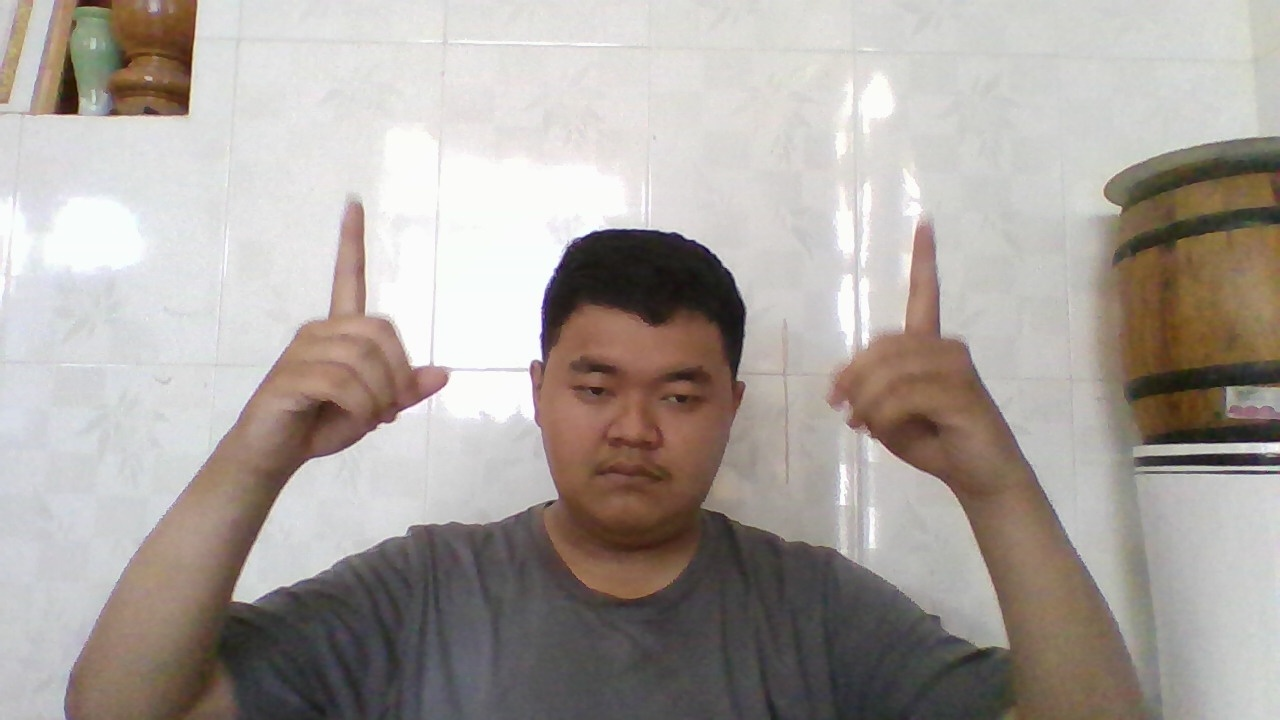D: (256, 193, 454, 475), (824, 211, 1002, 500)
